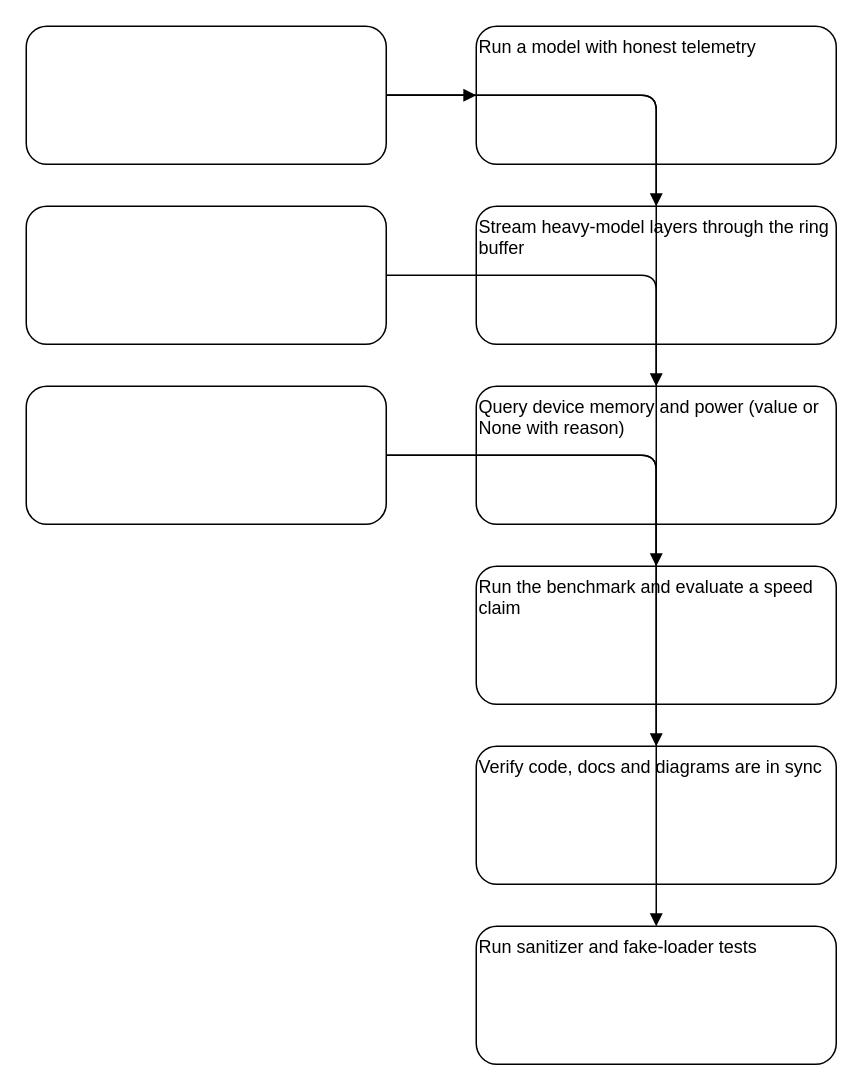
This 863x1091 diagram has some shape labels left out. The centre of each missing label's shape, as x and y in pixels:
"CI" belongs at pixel 205 454.
"Contributor" belongs at pixel 205 274.
"Operator" belongs at pixel 205 94.
